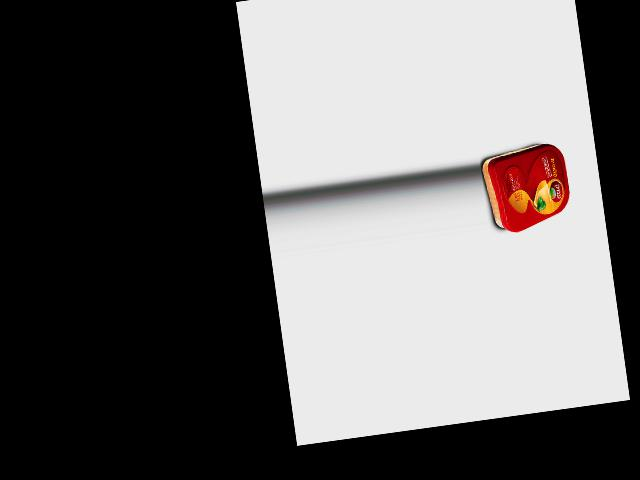cheese: (479, 141, 574, 235)
